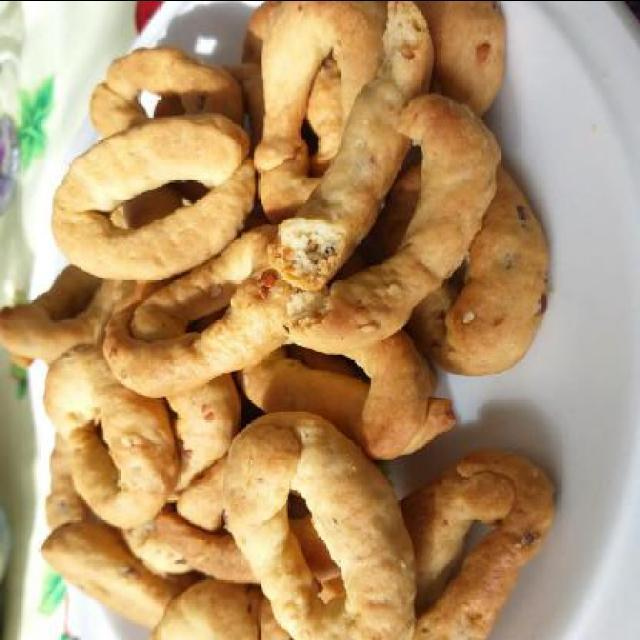Taralli: (36, 19, 544, 619)
